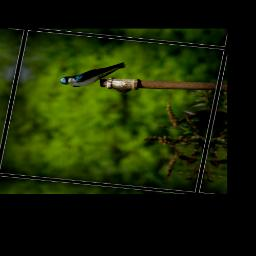Swallow: (59, 56, 129, 92)
